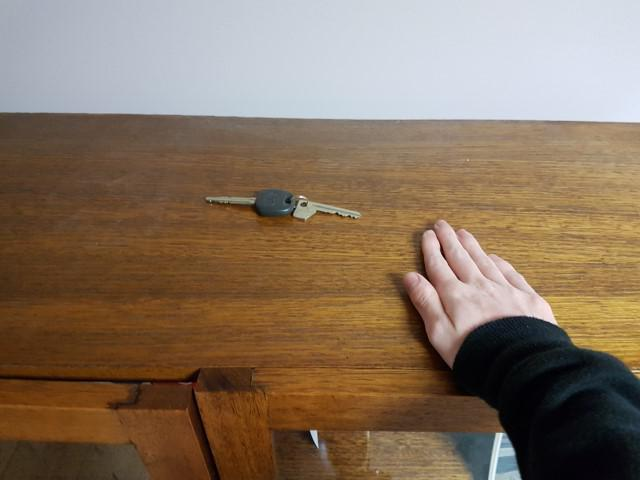key: (205, 188, 296, 215)
